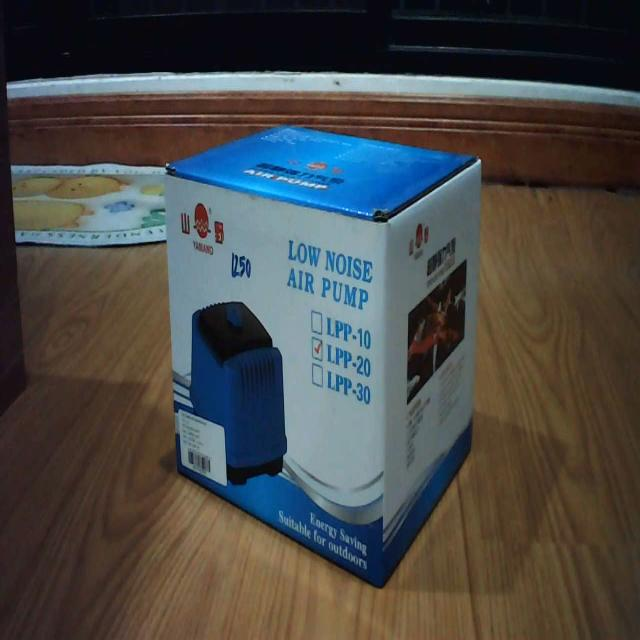YAMANO_LPP_20: (163, 125, 489, 612)
